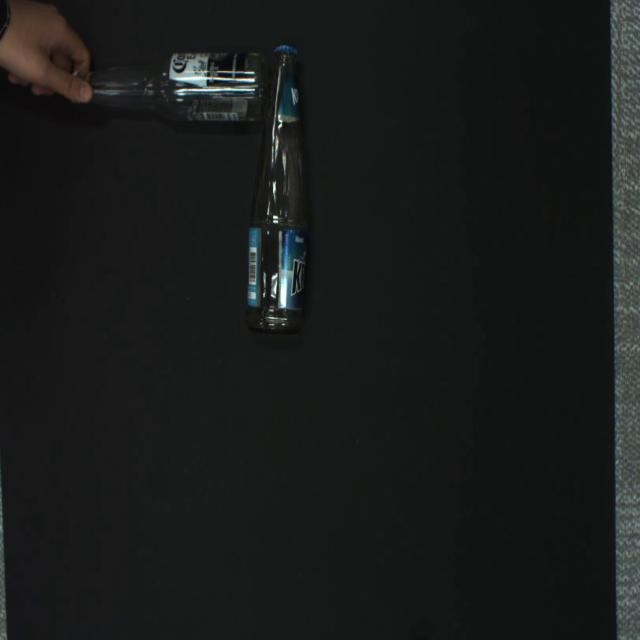beer-bottle: (244, 44, 308, 336), (71, 53, 270, 122)
